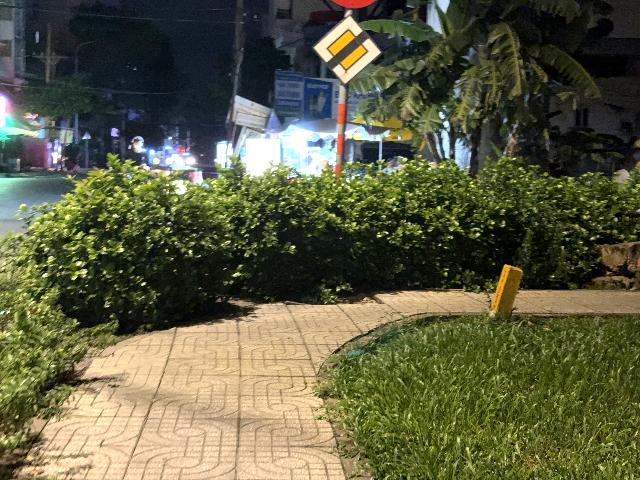het-duong-uu-tien: (312, 14, 383, 87)
